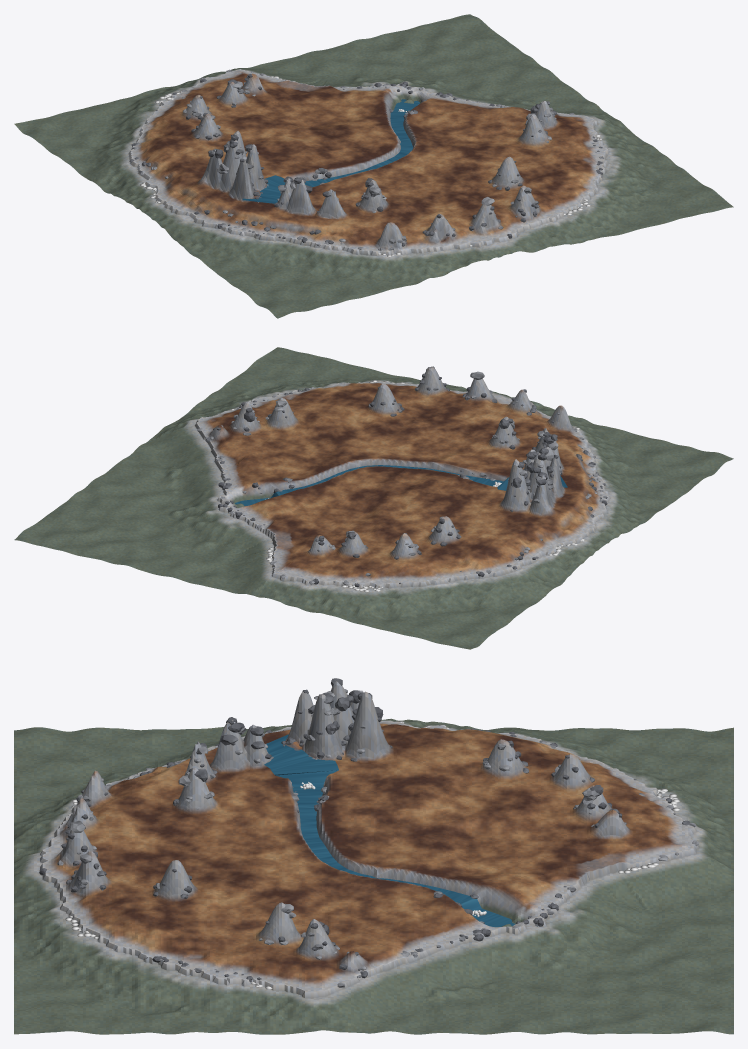
The model's file is Terrain_P1.fbx.
3 views of the same model, one above another, from view 1: azimuth 30°, elevation 25°; view 2: azimuth 150°, elevation 25°; view 3: azimuth 270°, elevation 25° (orthographic). The views are drawn at different scales.
Visible parts, largest first — view 1: Ground, River; view 2: Ground, River; view 3: Ground, River, Surf.
Boxes of the visible parts, x1,y1,x2,y2 form: Ground: (14, 14, 733, 318); River: (242, 99, 419, 203); Ground: (14, 347, 733, 649); River: (235, 465, 567, 505); Ground: (14, 681, 733, 1034); River: (264, 734, 515, 927); Surf: (65, 721, 679, 989).
Size of what is drawn, in the model's own units: 64000 by 10004 by 64000.
